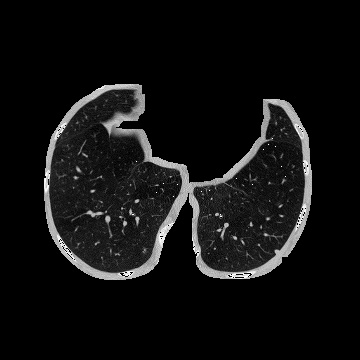PN: (274, 249, 278, 253)
